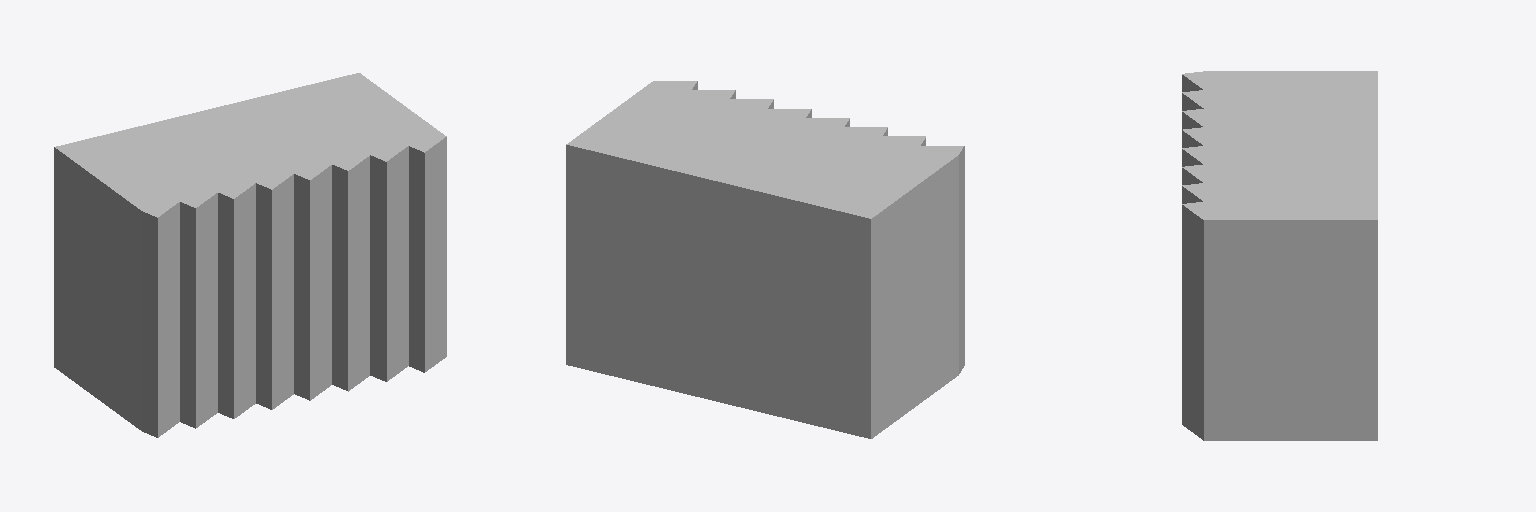
The model's file is Glass_Ridges backup 1.obj.
3 renders of one model, left to right at view 1: azimuth 30°, elevation 25°; view 2: azimuth 150°, elevation 25°; view 3: azimuth 270°, elevation 25°, orthographic.
Parts seen in each view (by area): view 1: Glass_Ridges; view 2: Glass_Ridges; view 3: Glass_Ridges.
Boxes of the visible parts, <box> form: Glass_Ridges: <box>54,73,446,437</box>; Glass_Ridges: <box>566,81,964,438</box>; Glass_Ridges: <box>1182,71,1377,440</box>.
Size of the model in its own units: 1.21 by 0.8333 by 0.6741.